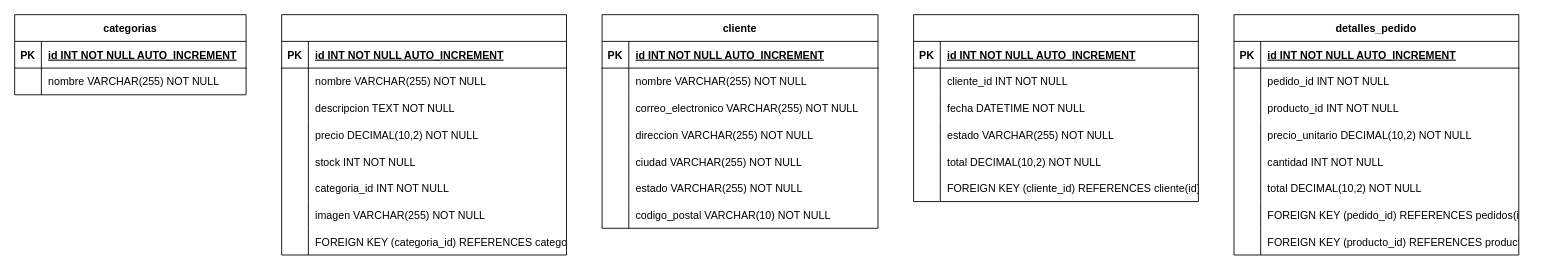
Some shapes in this 1562 by 270 pixel diagram are drawn without their labels. Here are the shapes that lost their labels. From the top down, the box of each, then its label:
(913, 14, 1198, 202): pedidos
(281, 14, 566, 255): productos
